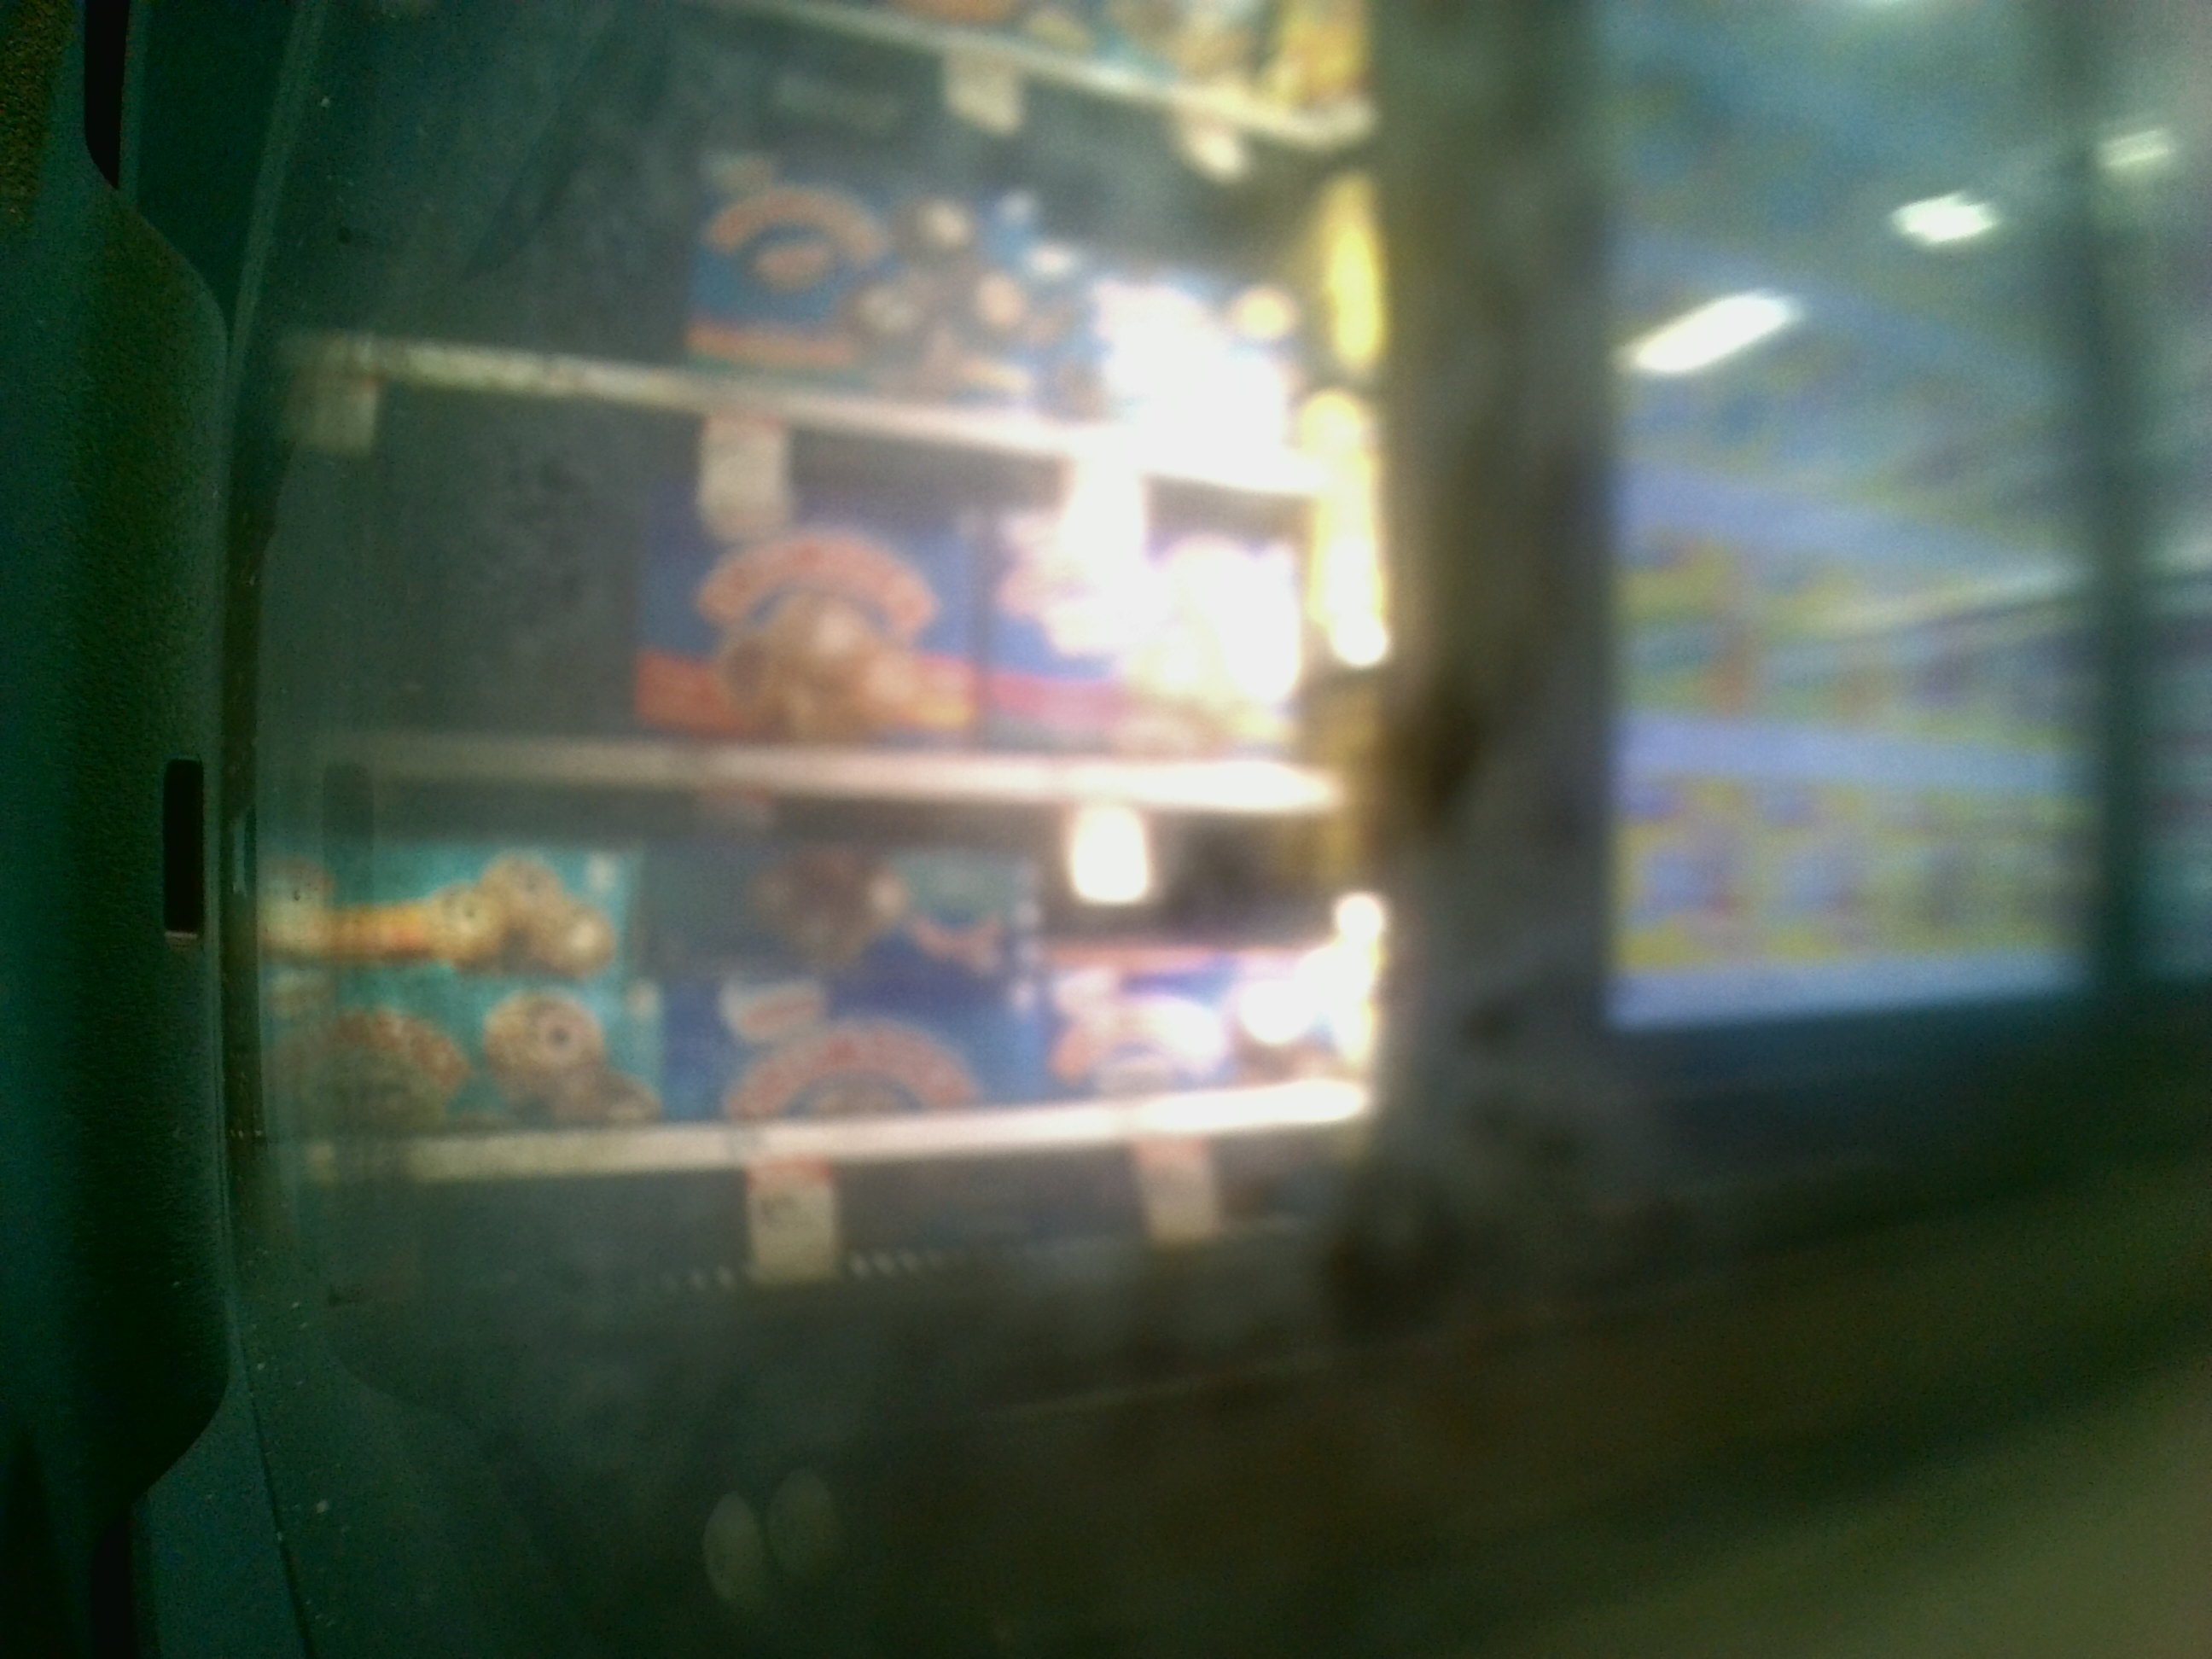shelf: (275, 373, 1366, 802), (284, 772, 1395, 1166)
